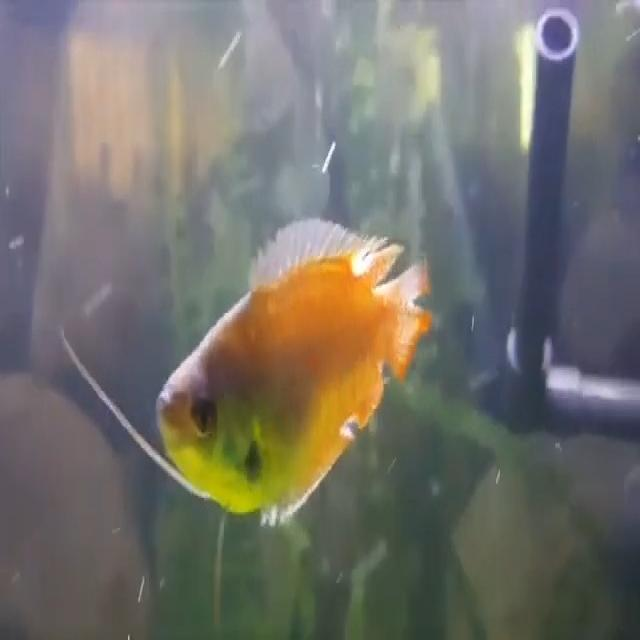fish: (156, 216, 436, 526)
